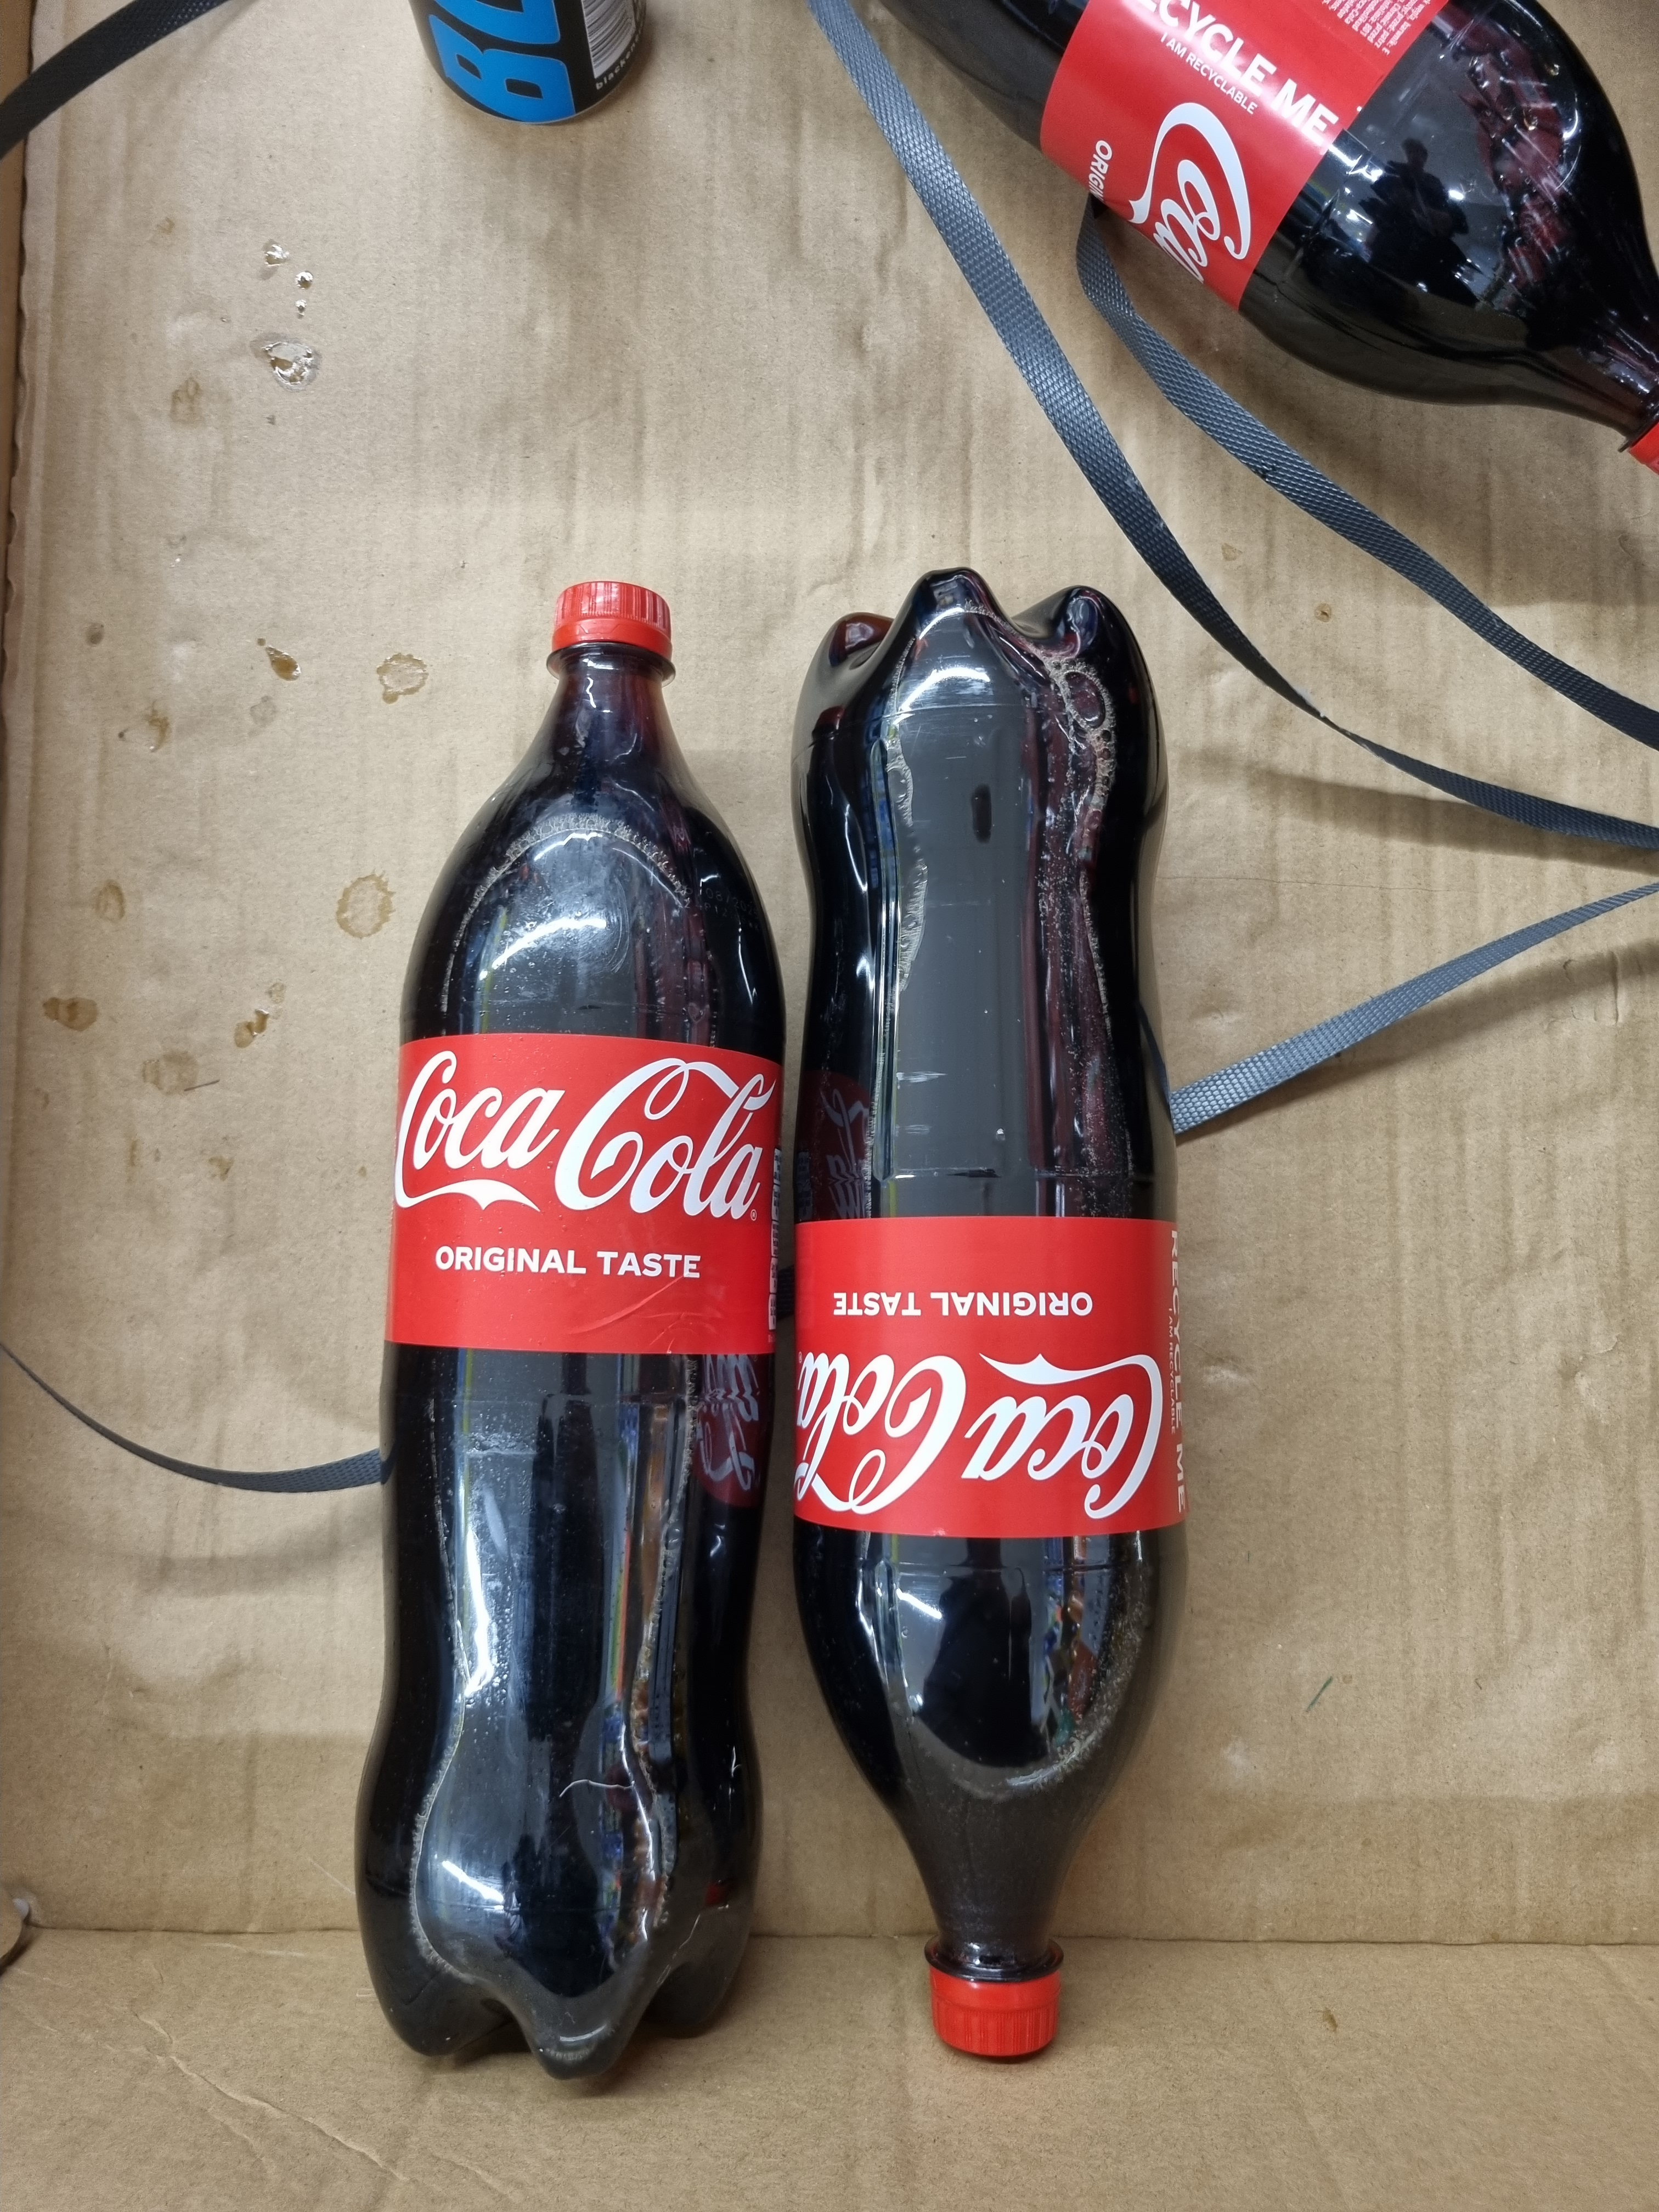Coca Cola: (775, 571, 1173, 2078), (378, 587, 765, 2069), (877, 3, 1659, 460)
